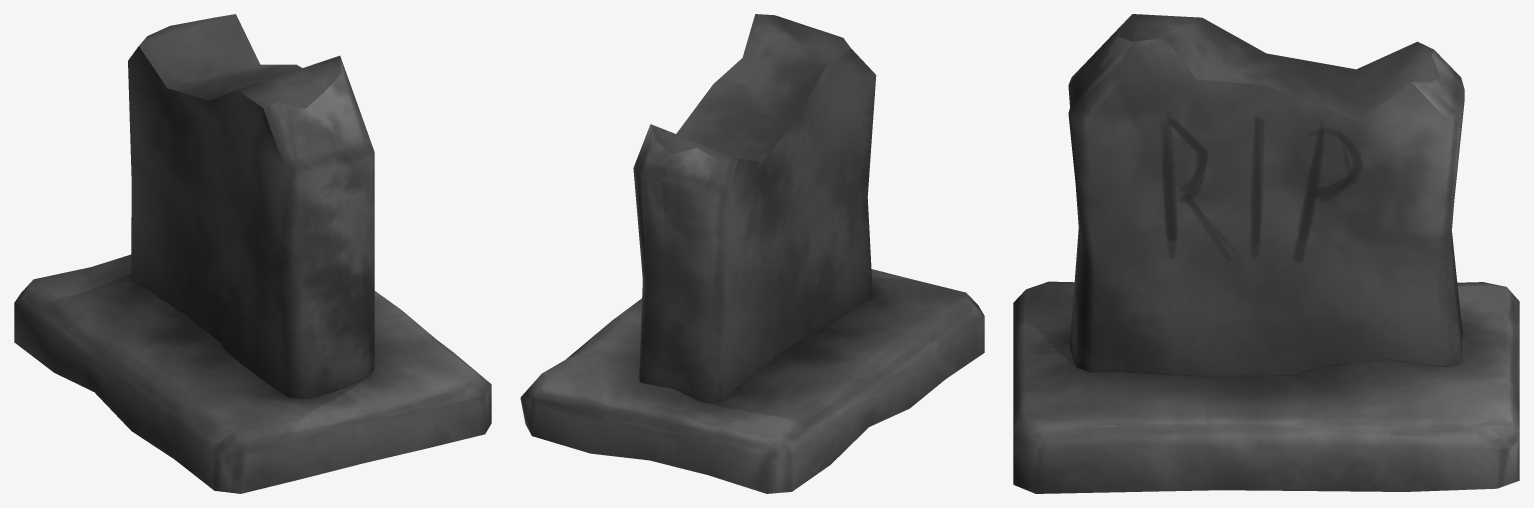
The model's file is tomb2.fbx.
3 views of the same model, side by side, from view 1: azimuth 30°, elevation 25°; view 2: azimuth 150°, elevation 25°; view 3: azimuth 270°, elevation 25° (orthographic). The views are drawn at different scales.
Visible parts, largest first — view 1: Cube.001, Cube; view 2: Cube.001, Cube; view 3: Cube.001, Cube.
Part boxes in pixels (<box>): Cube.001: <box>128,14,374,398</box>; Cube: <box>14,254,491,493</box>; Cube.001: <box>633,14,876,403</box>; Cube: <box>520,269,984,493</box>; Cube.001: <box>1068,14,1464,376</box>; Cube: <box>1013,281,1519,493</box>.
Bounding box in the file's own units: 155 × 185 × 211.
